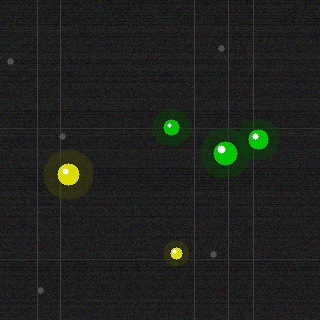green_normal: (211, 139, 239, 167), (246, 127, 270, 151), (161, 117, 181, 137)
yellow_warning: (55, 161, 81, 187), (168, 245, 184, 261)
